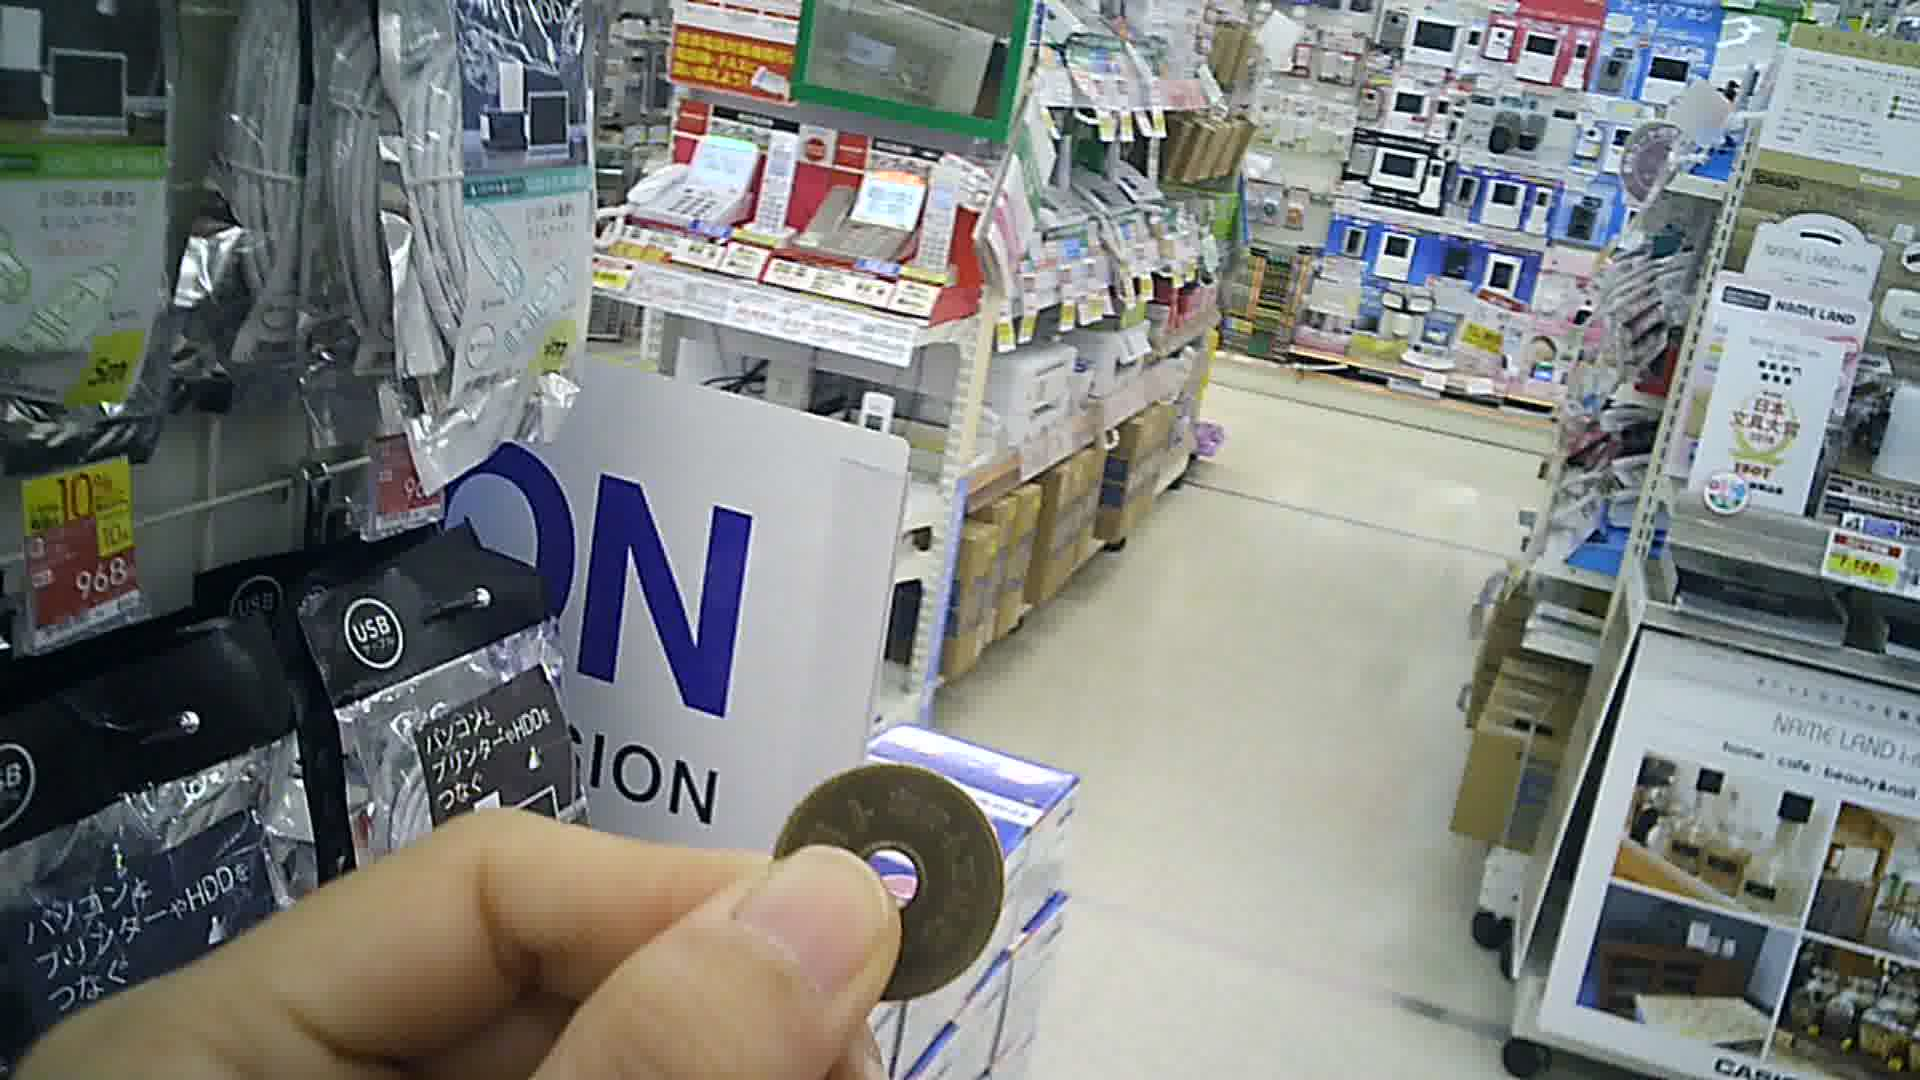5 Yen: (757, 760, 1009, 1011)
